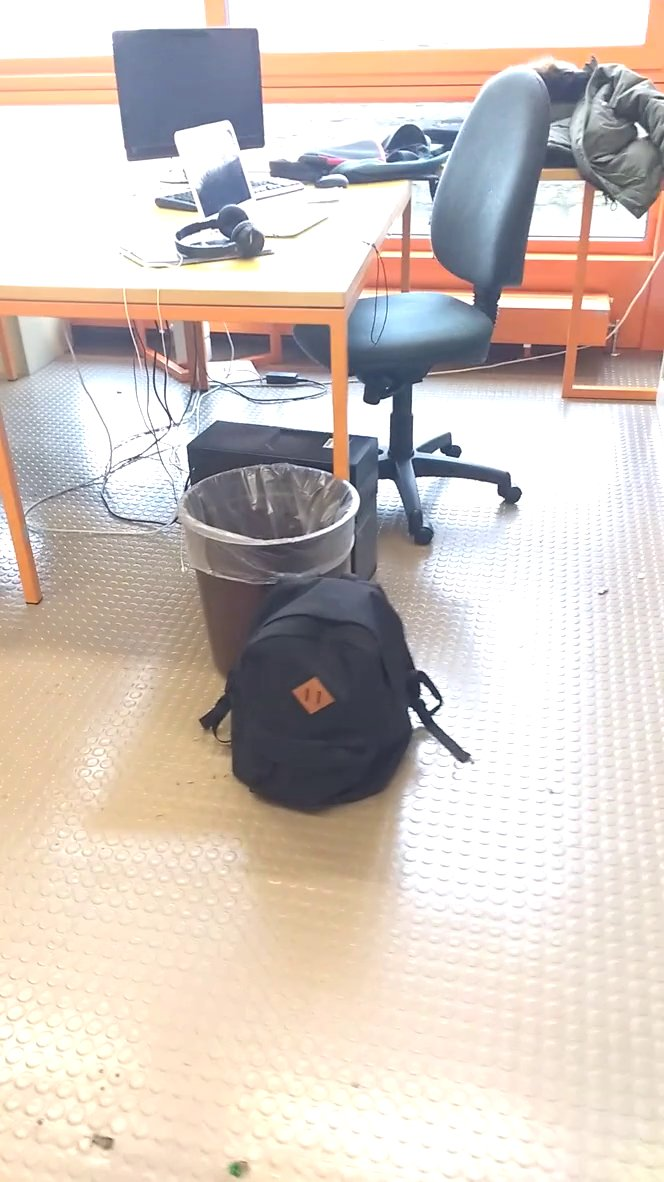bag: (203, 564, 463, 820)
bin: (173, 458, 376, 597)
chair: (316, 47, 555, 558)
laptop: (168, 112, 342, 251)
